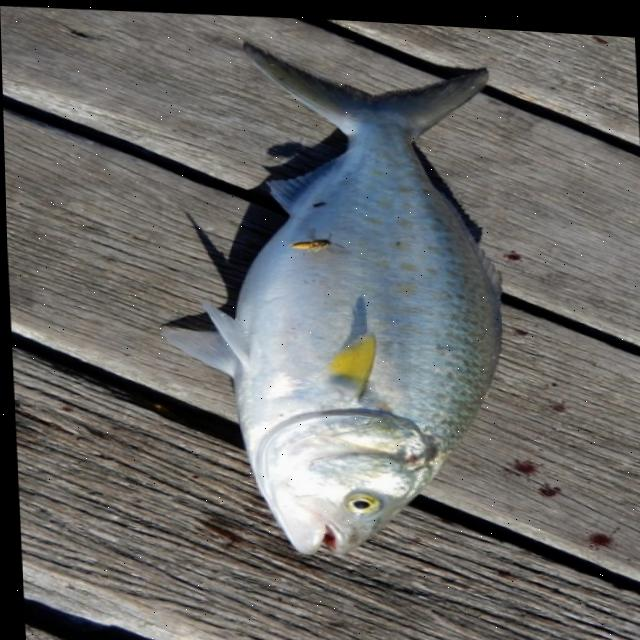Australian Salmon: (133, 11, 563, 576)
